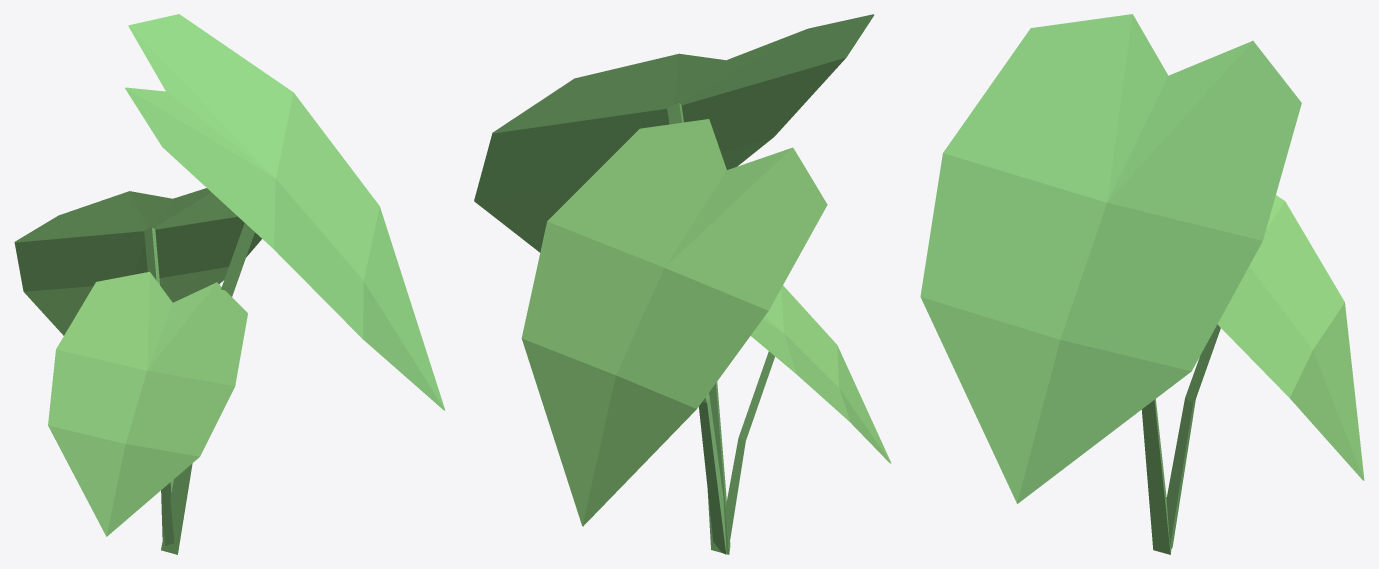
Rendered from Plant_d_TwoS_05.fbx.
The picture shows the model from 3 angles, left to right: view 1: azimuth 30°, elevation 25°; view 2: azimuth 150°, elevation 25°; view 3: azimuth 270°, elevation 25°; orthographic projection. The views are drawn at different scales.
Visible parts, largest first — view 1: Plant_d_TwoS_05; view 2: Plant_d_TwoS_05; view 3: Plant_d_TwoS_05.
Boxes of the visible parts, left/top/right/bottom form: Plant_d_TwoS_05: left=14, top=14, right=445, bottom=554; Plant_d_TwoS_05: left=474, top=14, right=891, bottom=554; Plant_d_TwoS_05: left=920, top=14, right=1364, bottom=554.
Size of the model in its own units: 45.25 by 62.62 by 49.5.
